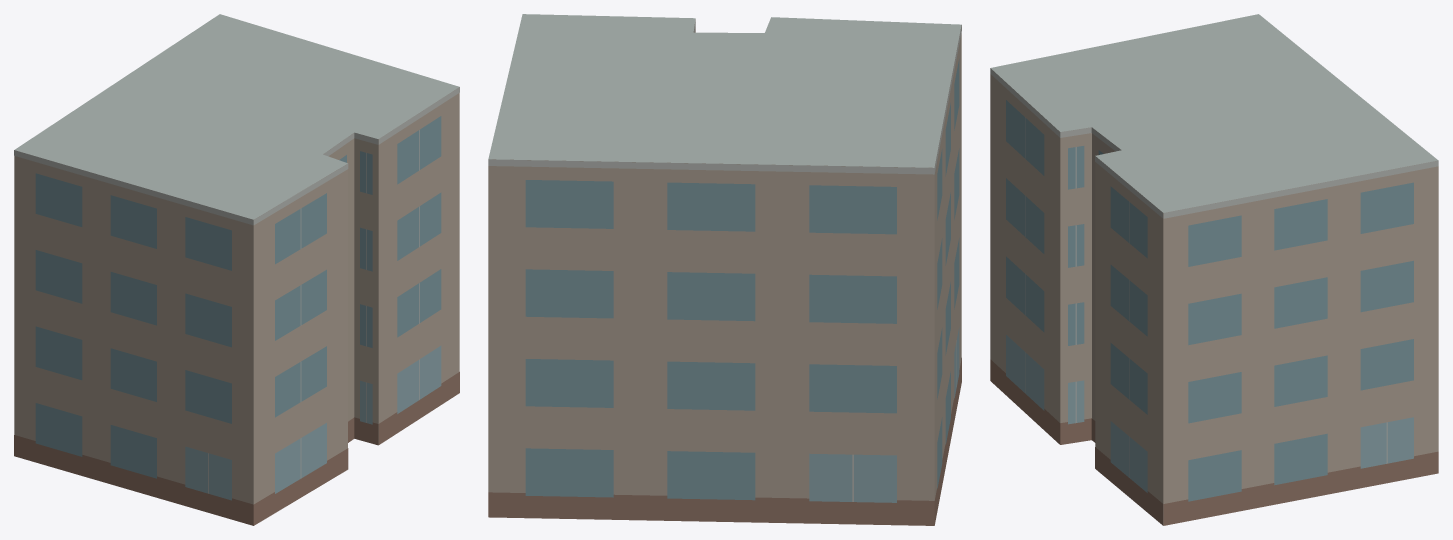
The model's file is survey-upis-32970071.glb.
The picture shows the model from 3 angles, left to right: view 1: azimuth 30°, elevation 25°; view 2: azimuth 150°, elevation 25°; view 3: azimuth 270°, elevation 25°; orthographic projection. The views are drawn at different scales.
Visible parts, largest first — view 1: survey-upis-32970071.tmp; view 2: survey-upis-32970071.tmp; view 3: survey-upis-32970071.tmp.
Part boxes in pixels (x1,y1,x2,y2): survey-upis-32970071.tmp: (14, 14, 459, 525); survey-upis-32970071.tmp: (488, 14, 961, 525); survey-upis-32970071.tmp: (990, 14, 1438, 525).
Bounding box in the file's own units: 17.81 × 13.05 × 16.95.
